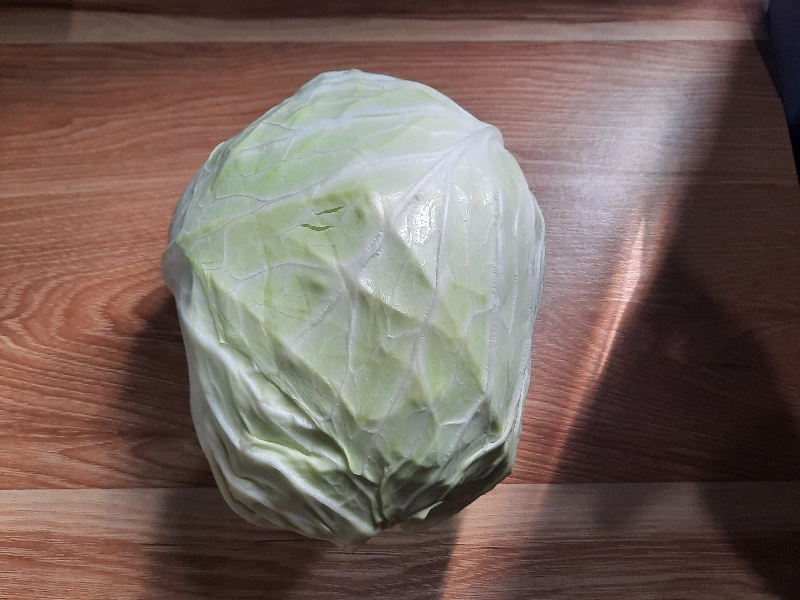vege: (151, 64, 535, 548)
